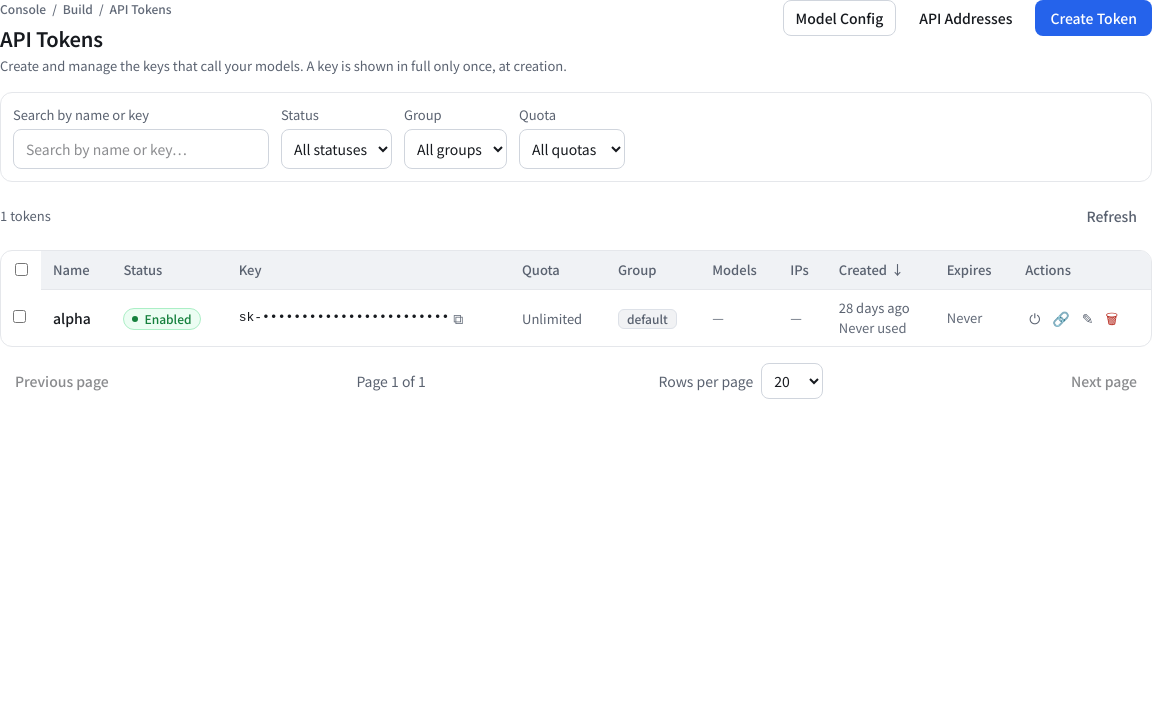
Test: token creation › shows every created key for a quantity batch
This screenshot has width=1152, height=720.
Check: the text "alpha" is shown, box [41,289,111,346]
Click the button "Create Token" at (1094, 18), box [1035,0,1151,36]
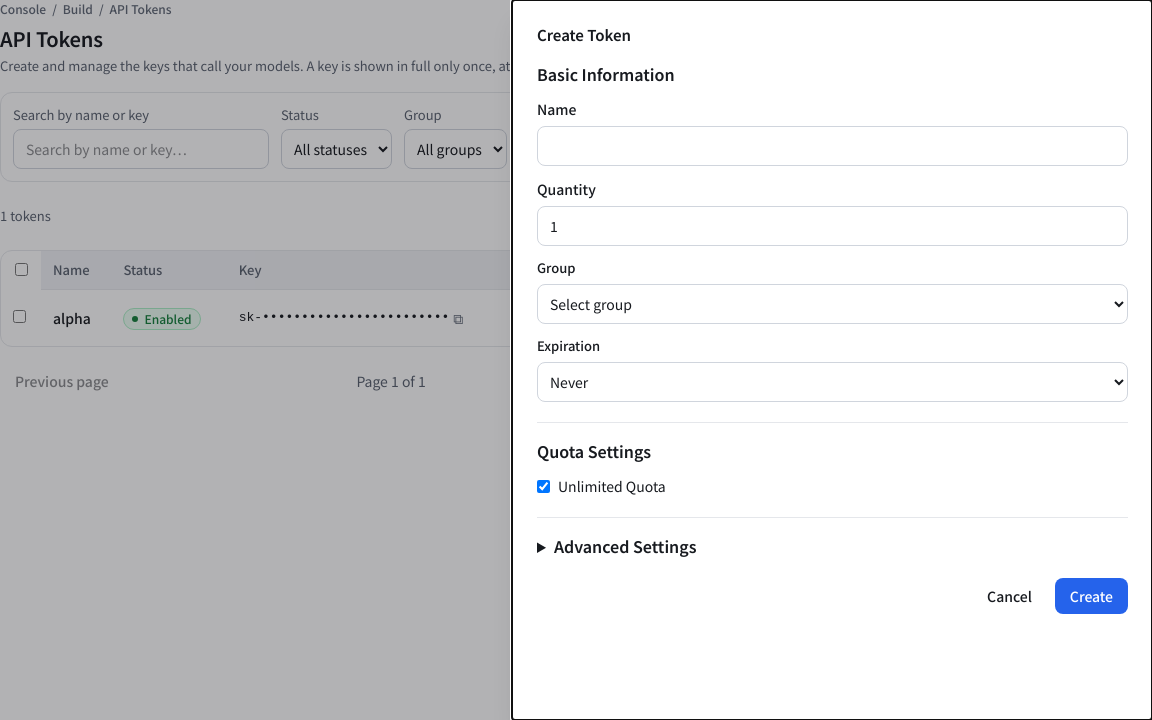
Type "batch" into the field labelled "Name" at (832, 146), box [537,126,1128,166]
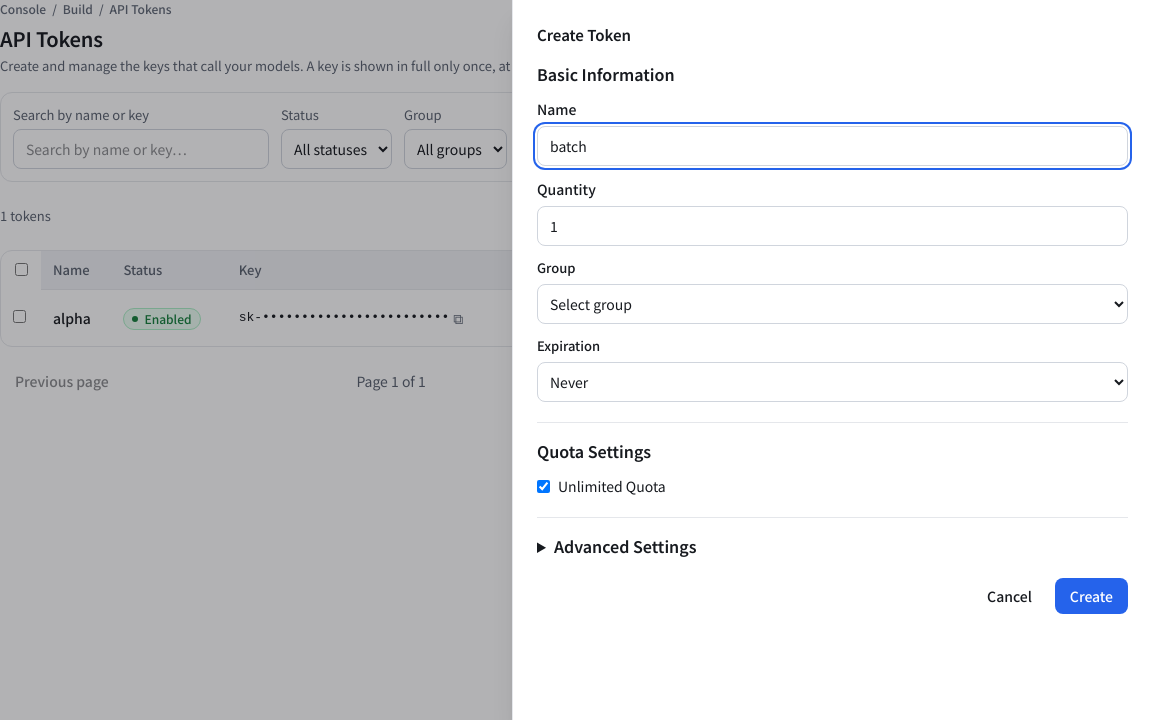
Replace the text in the number field labelled "Quantity" with "3" at (832, 226), box [537,206,1128,246]
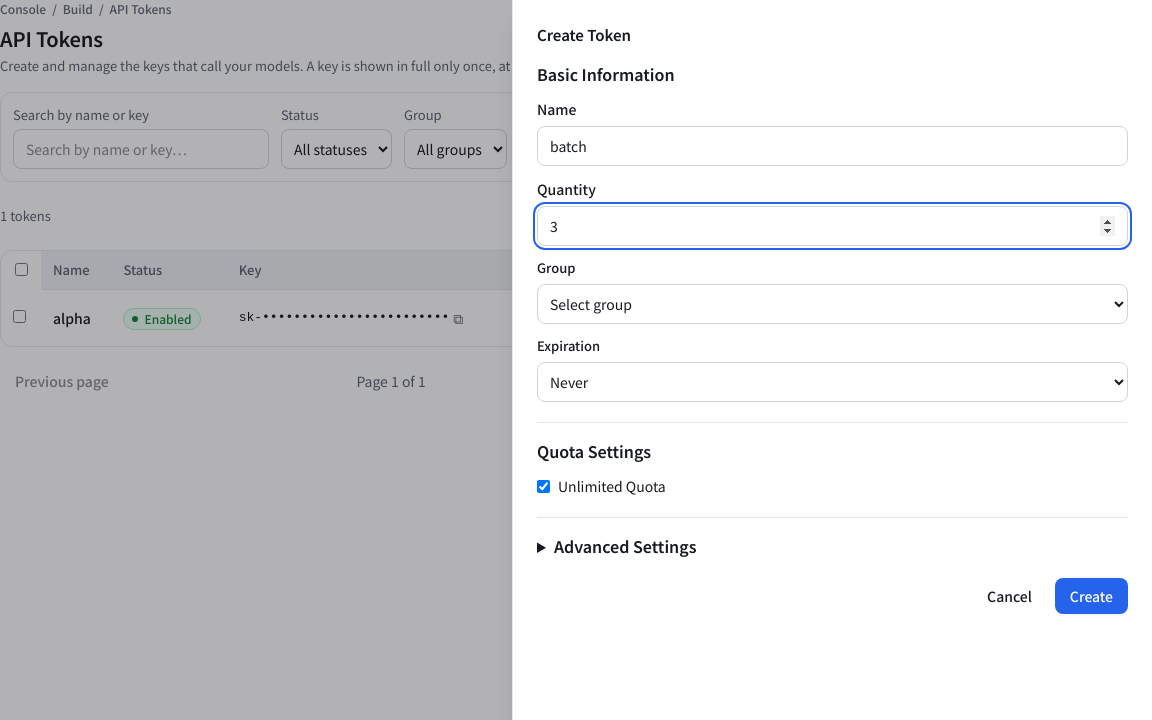
Click the button "Create" at (1091, 596), box [1055,578,1128,614]
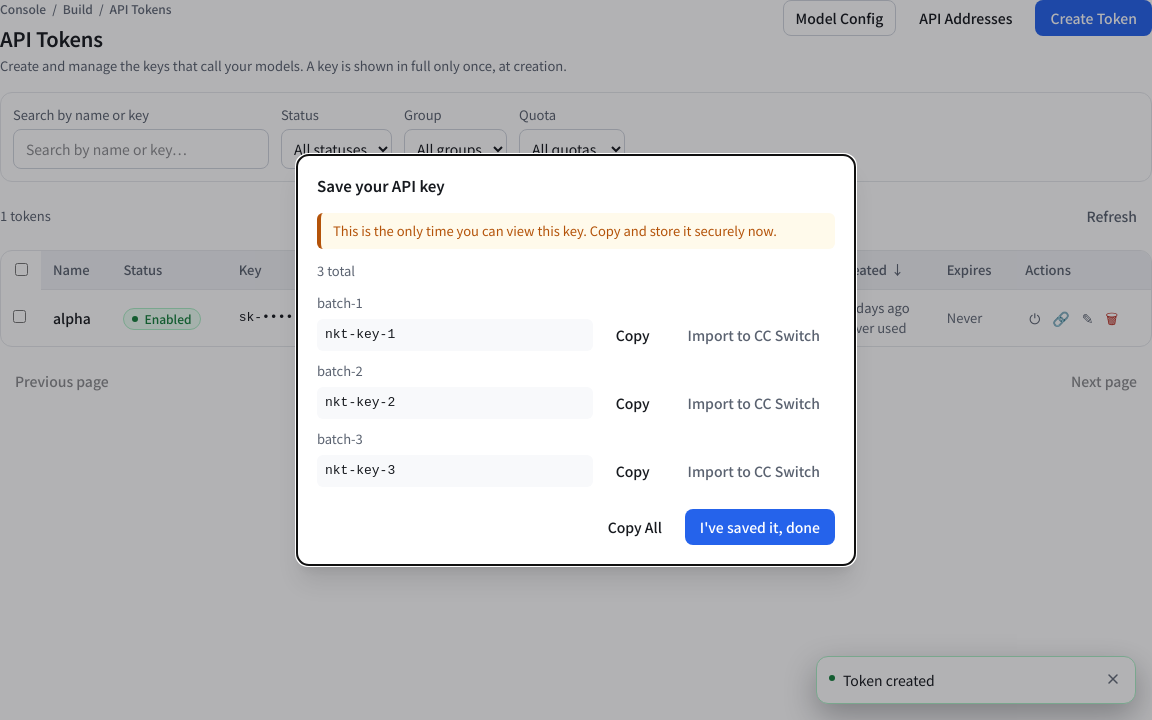
Check: the text "3 total" is shown, box [317,261,355,280]
Check: the text "nkt-key-1" is shown, box [317,319,593,351]
Check: the text "nkt-key-3" is shown, box [317,455,593,487]
